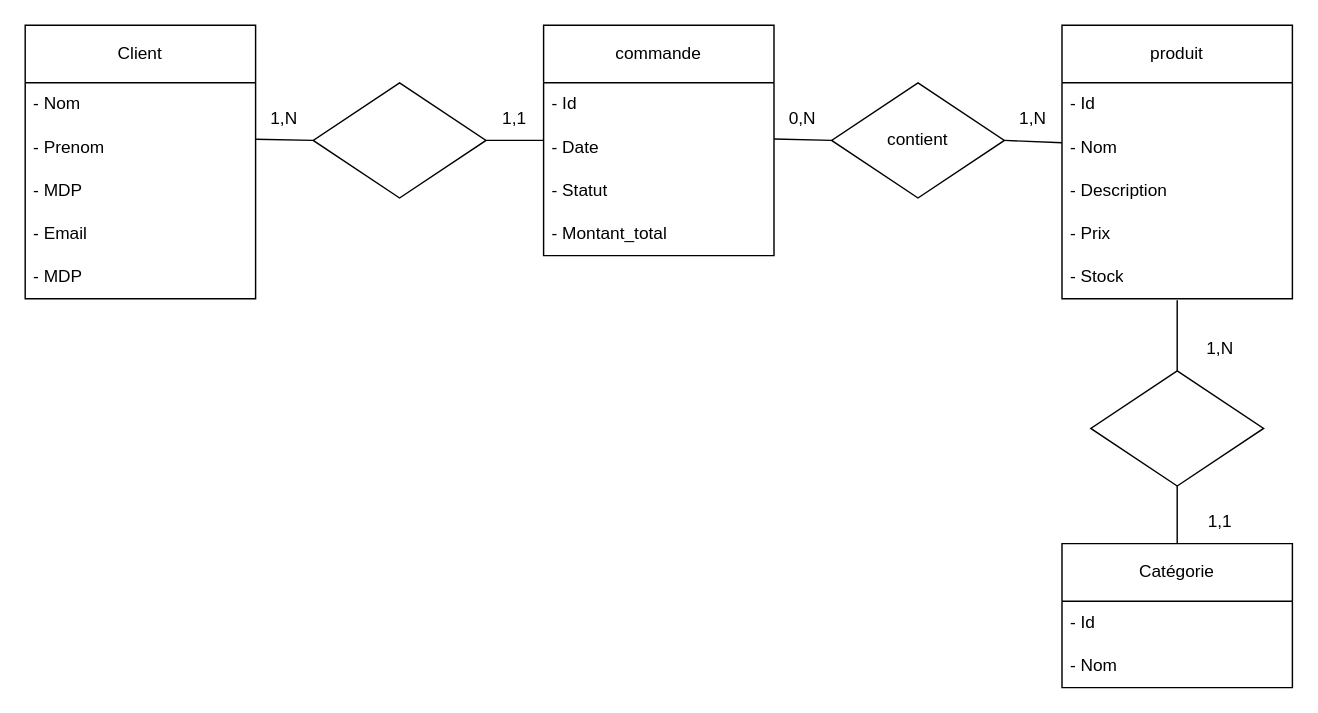
The diagram is 1318 pixels wide and 713 high, and some of its shapes have lost their labels. The centre of each missing label's shape, as x and y in pixels:
"est" belongs at (x=1176, y=427).
"passe" belongs at (x=399, y=139).
